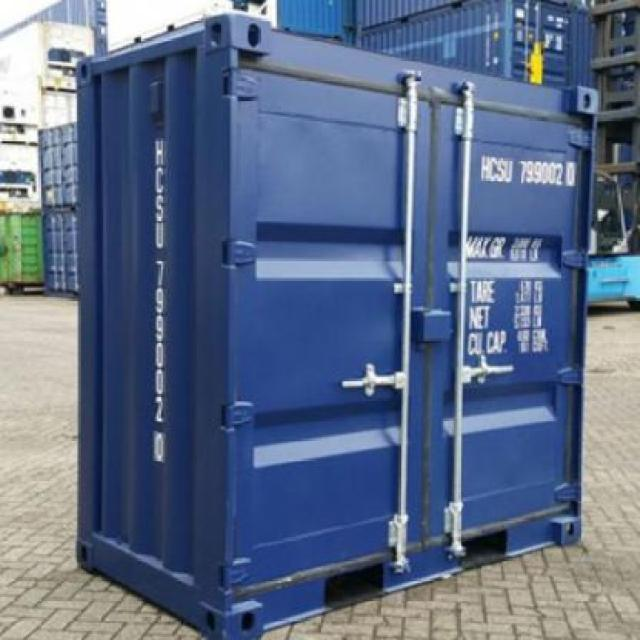container_number: (477, 154, 585, 190)
